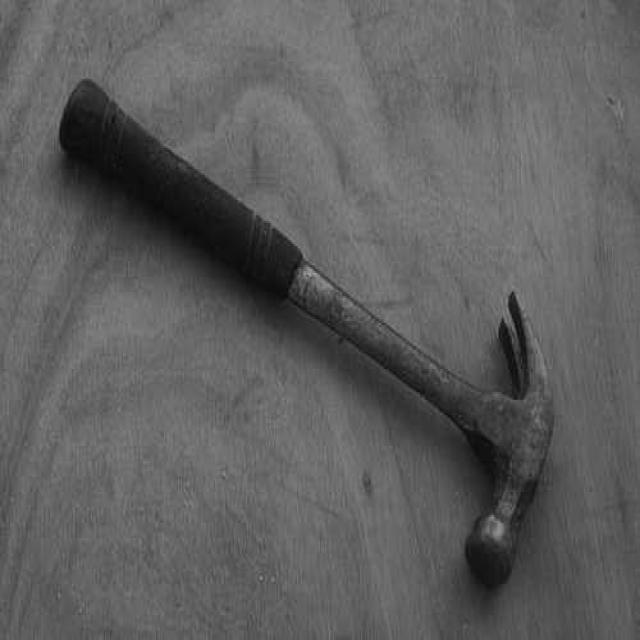hammer: (56, 75, 560, 596)
